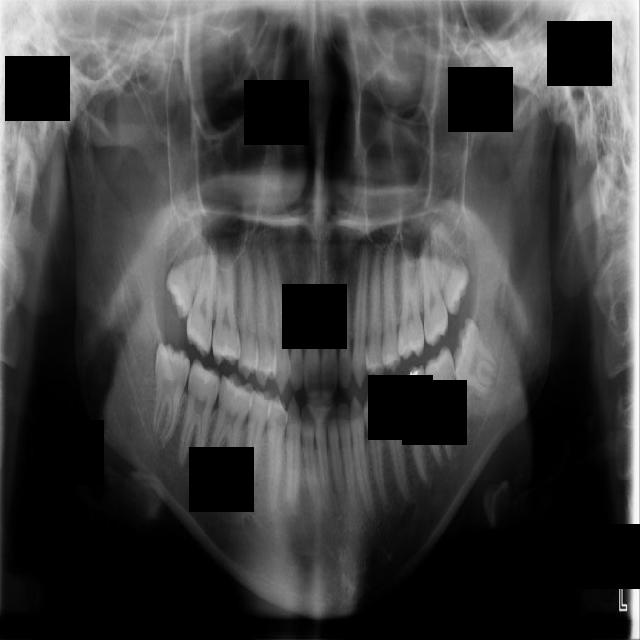3M ESPE Implant: (155, 221, 215, 321)
52: (392, 364, 430, 418)
73: (587, 560, 591, 570)
BioHorizons Implant: (419, 234, 449, 347)
BioLife Implant: (427, 213, 477, 317)
Biomet 3i Implant: (445, 316, 509, 398)
Blue Sky Bio Implant: (420, 344, 471, 463)
Caries: (184, 243, 216, 359)
Implant: (174, 357, 223, 482)
Keystone Dental Implant: (146, 342, 193, 449)
